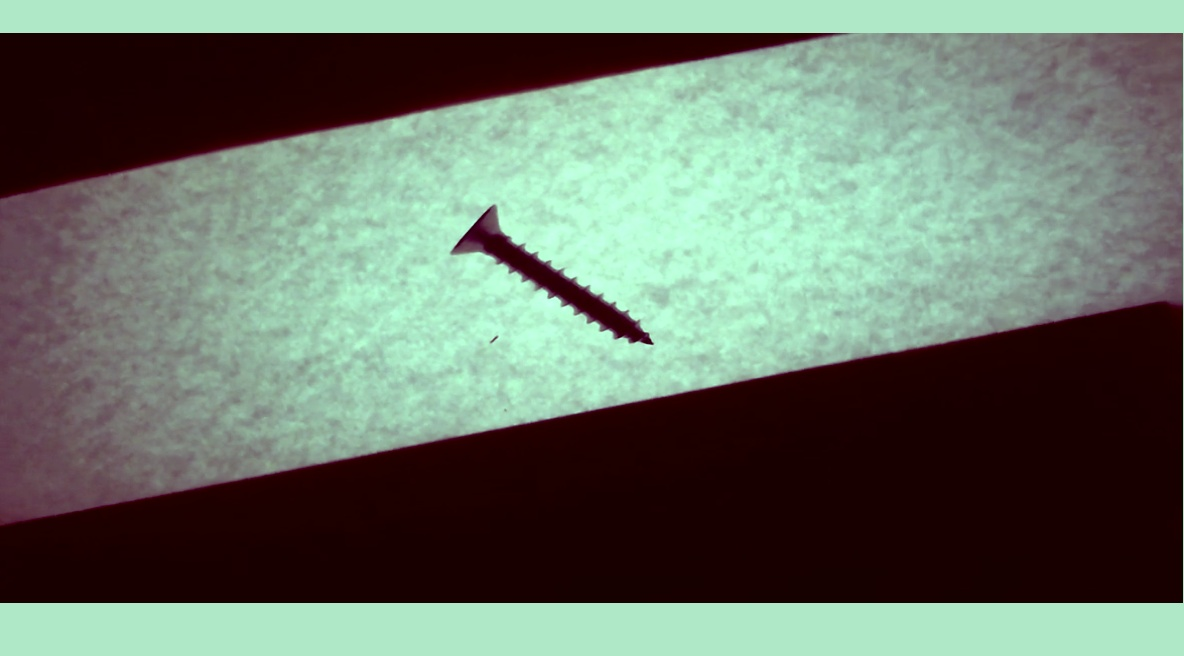S001: (437, 193, 675, 361)
